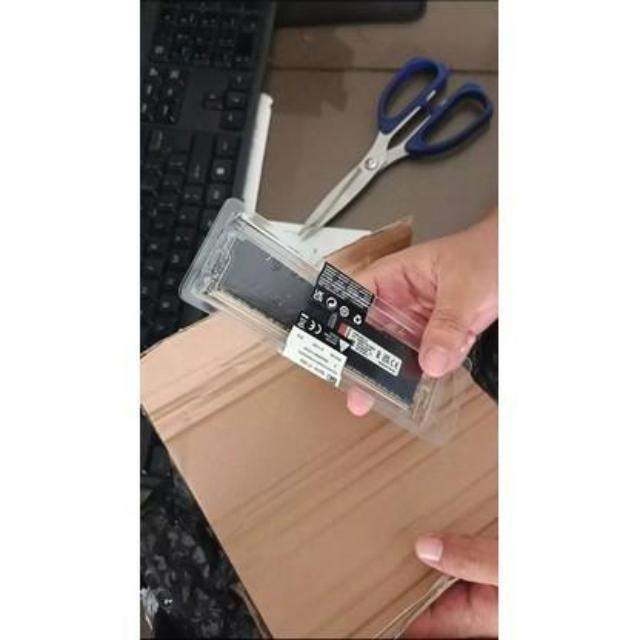RAM: (214, 216, 432, 418)
